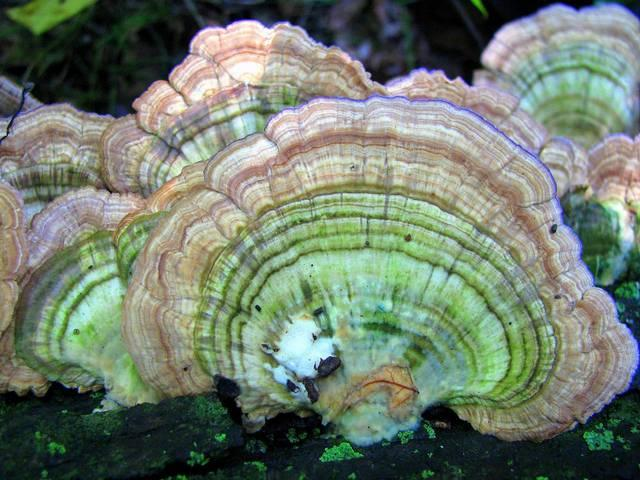Non-edible Mushroom: (114, 88, 637, 447)
